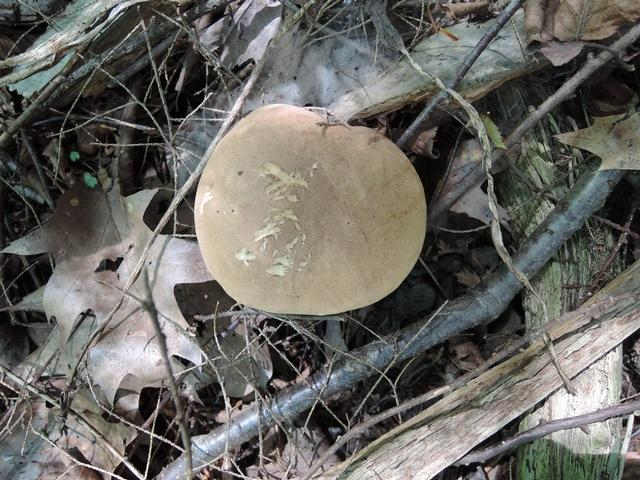Non-edible Mushroom: (192, 101, 428, 318)
